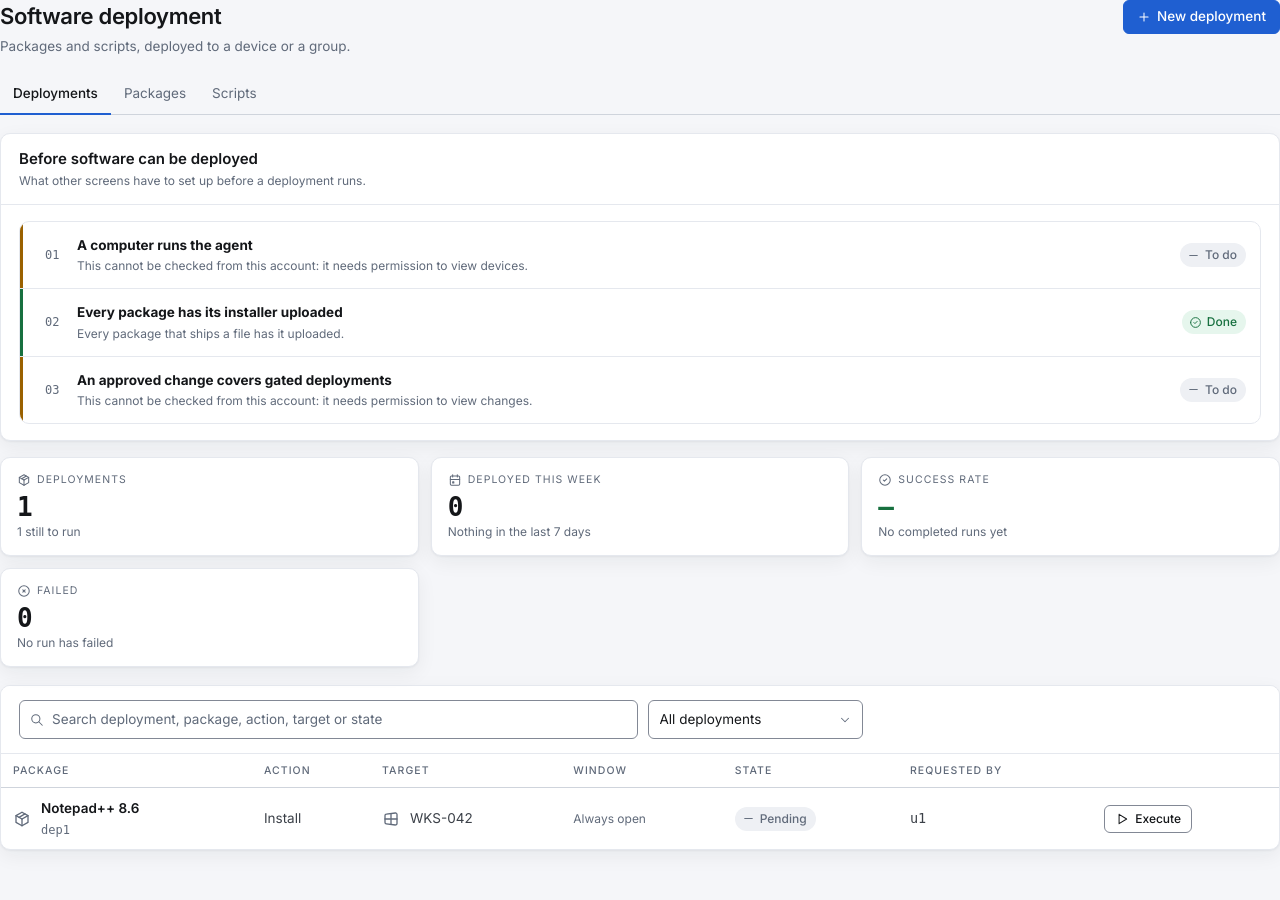
Test: CreateDeploymentDialog › leaves Create enabled with nothing filled in
Expected: the text "dep1" is shown, [41,823,70,837]
Click the button "New deployment" at (1202, 17), box [1123,0,1279,34]
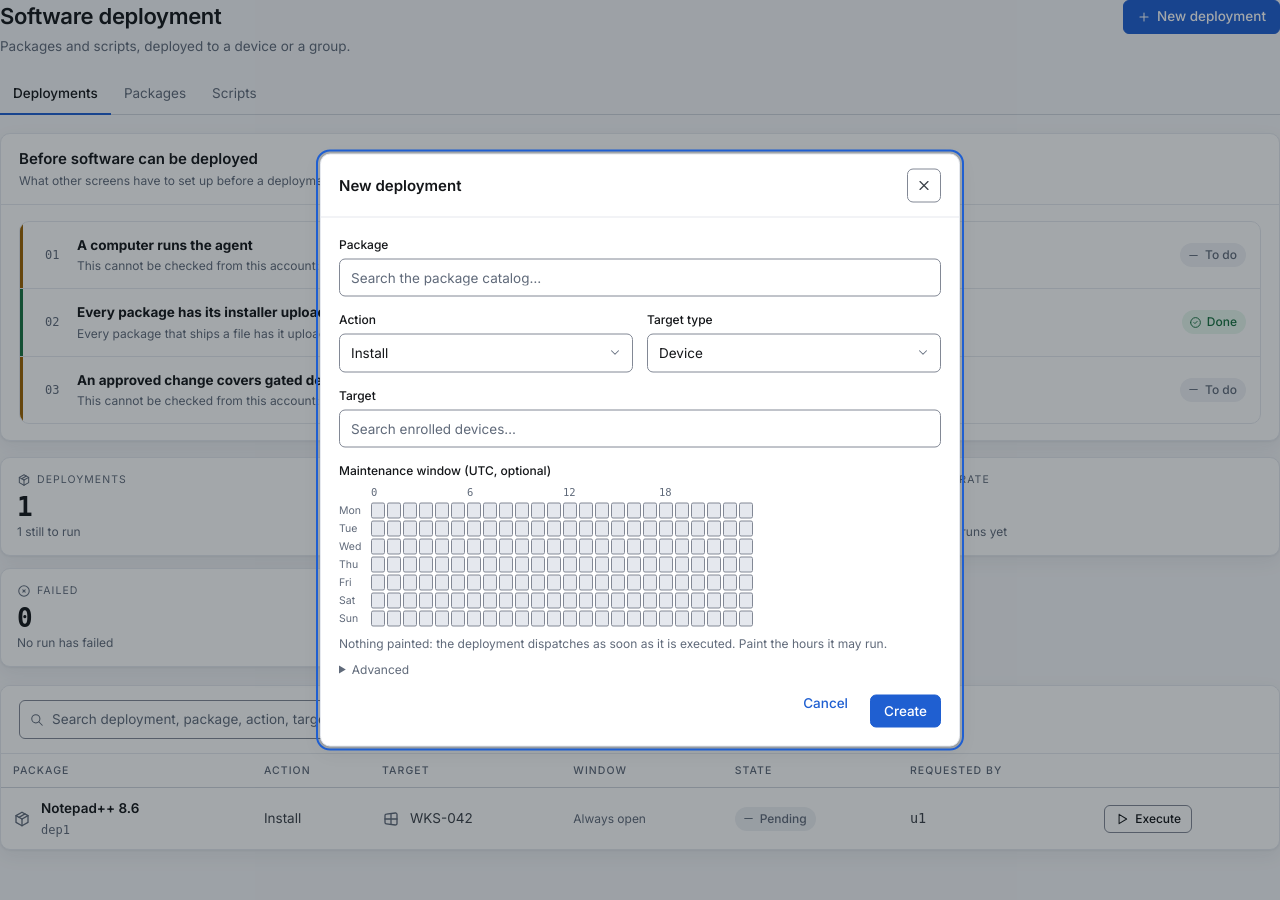
Expected: the button "Create" is enabled, [870,694,941,728]
